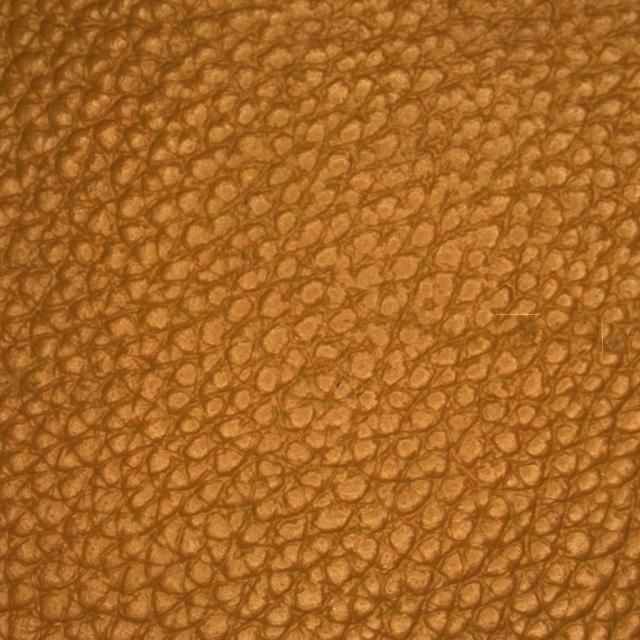Healed Injury: (446, 216, 612, 362)
